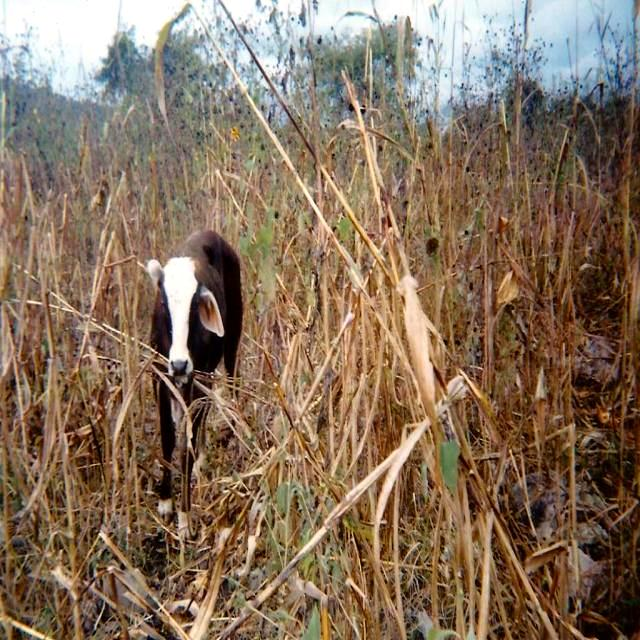COW: (146, 230, 242, 536)
